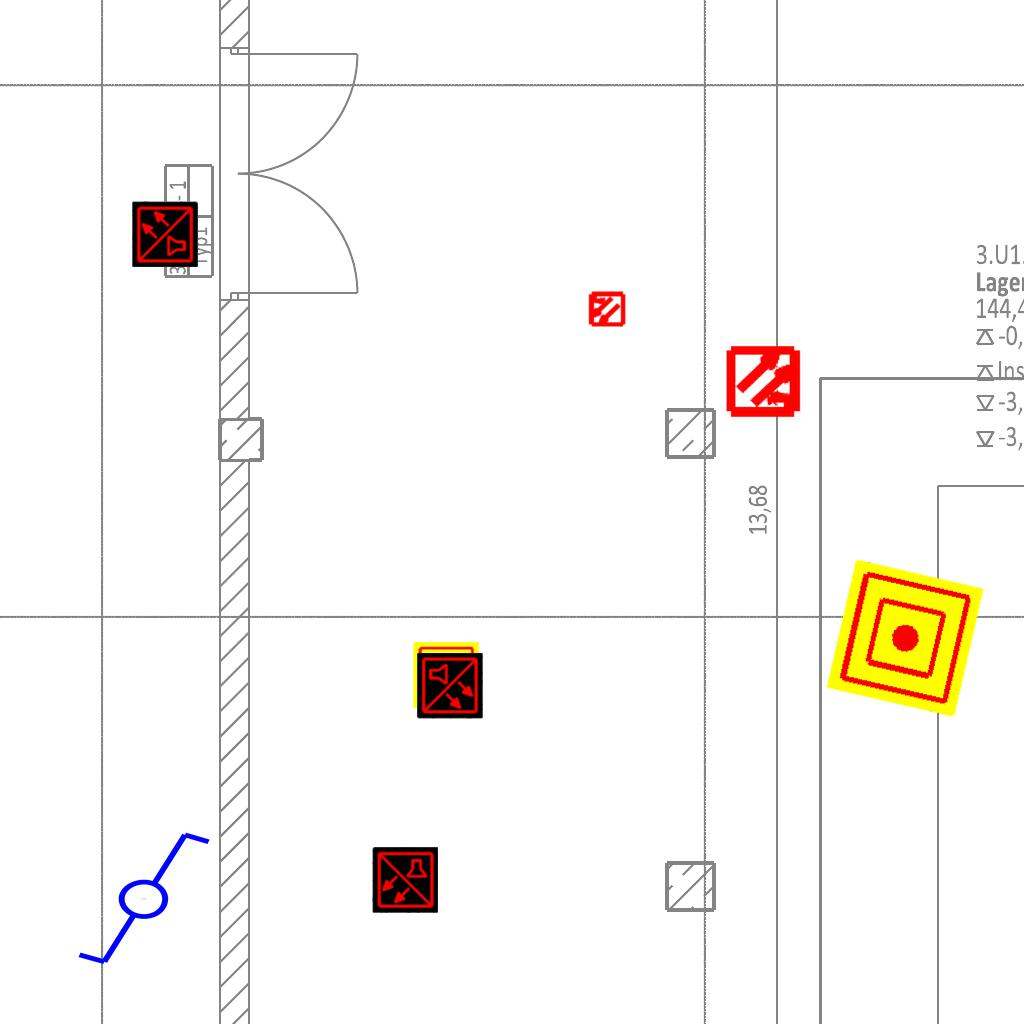NAM-Nichtautomatischer_Melder: (825, 558, 985, 718), (413, 642, 479, 708)
OKW_Multisensormelder_(Kombination_optischer_Rauch-Kahlenmonoxid_Waerme-Melder): (372, 847, 438, 913), (132, 201, 198, 267), (417, 653, 483, 719)
OT_Multisensormelder_(Kombination_RMO_WMD): (709, 325, 822, 438), (578, 281, 634, 337)
Wechselschalter: (57, 825, 214, 969)
